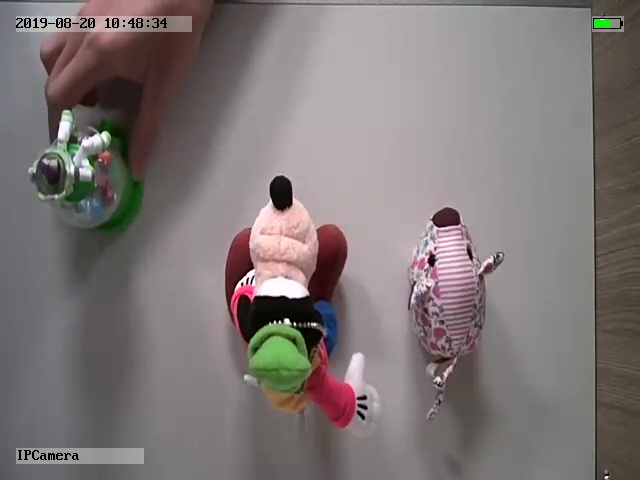buzz: (25, 106, 142, 232)
goofy: (223, 175, 384, 440)
pig: (404, 206, 505, 420)
